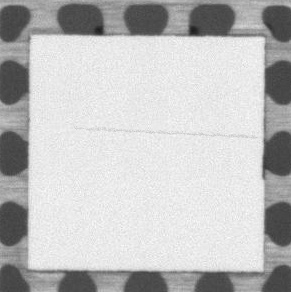DIE_CRACK: (75, 128, 256, 137)
